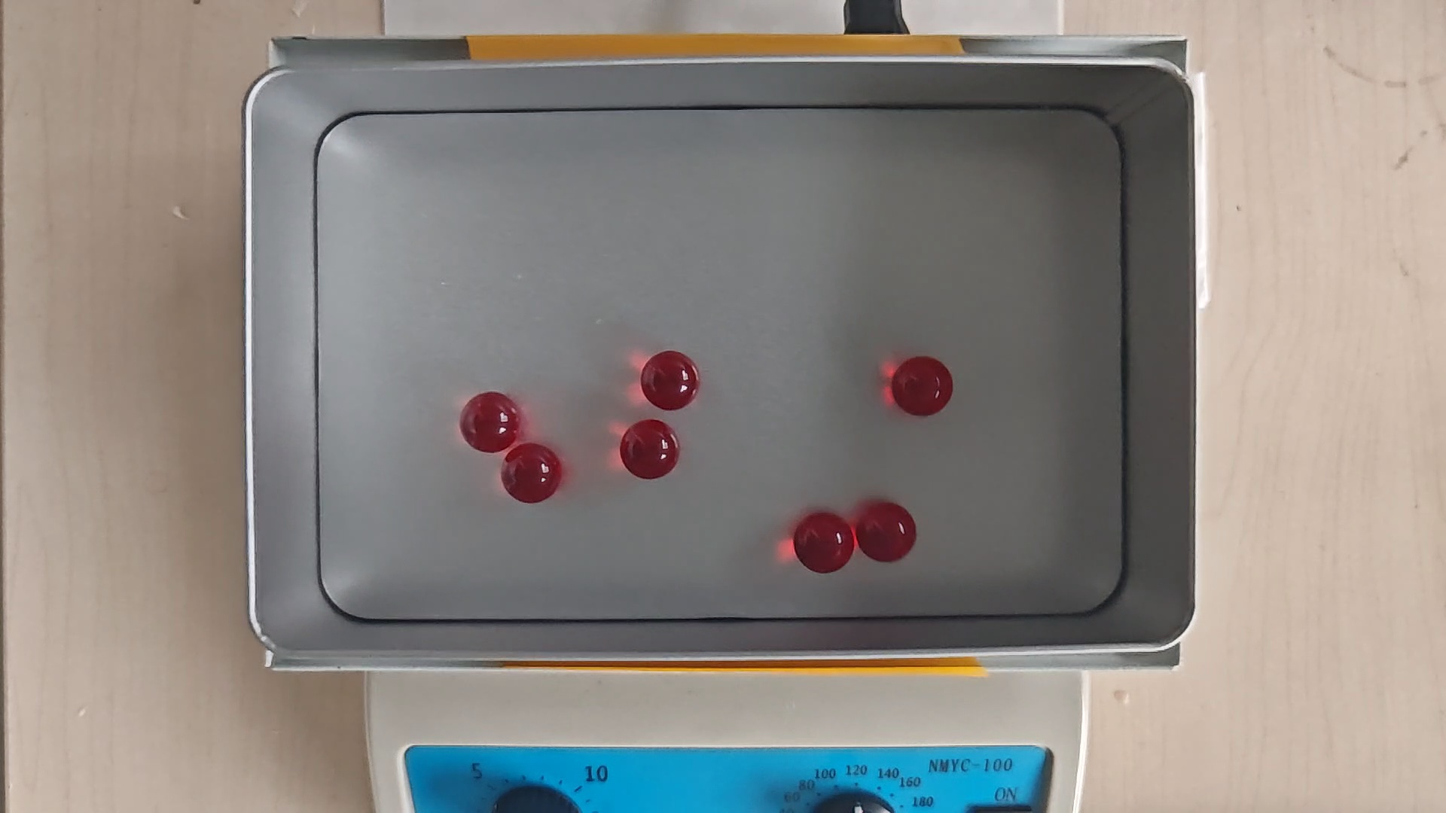ball: (892, 356, 951, 419), (796, 513, 855, 574), (642, 349, 700, 411), (502, 444, 561, 503), (462, 390, 519, 451), (622, 419, 678, 480), (859, 501, 914, 563)
container: (312, 111, 1121, 619)
